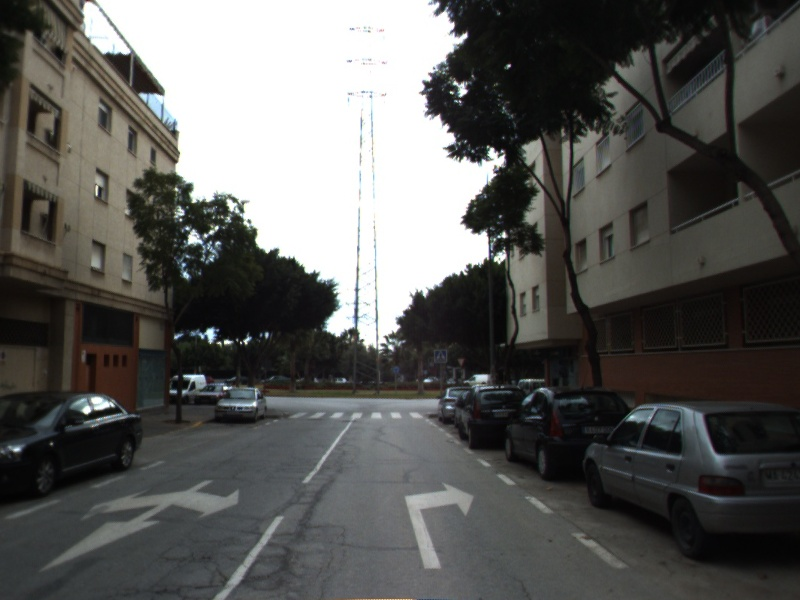RIGHT: (403, 479, 477, 571)
